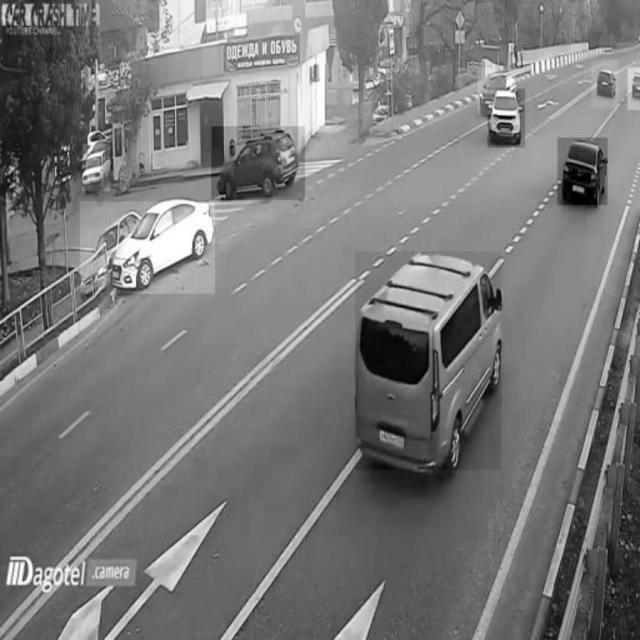accident: (80, 201, 214, 293)
vehicle: (355, 251, 501, 469), (212, 127, 305, 200), (558, 137, 608, 205), (487, 89, 525, 147), (478, 68, 516, 115), (82, 145, 110, 192), (592, 61, 619, 108), (628, 68, 640, 110)
